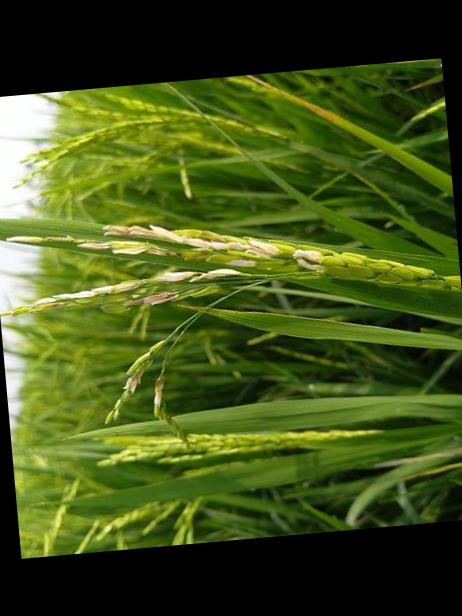Panicle Blight: (16, 223, 341, 315), (152, 376, 178, 434), (124, 355, 147, 400)
